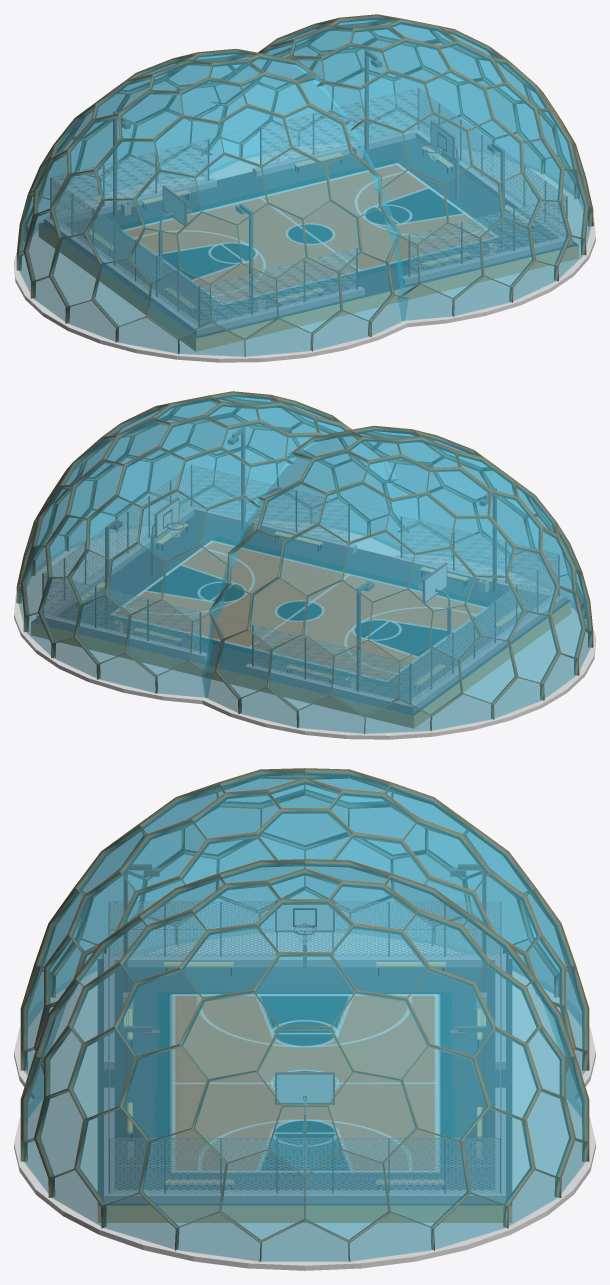
File: FitnessShell.glb
The picture shows the model from 3 angles, top to bottom: view 1: azimuth 30°, elevation 25°; view 2: azimuth 150°, elevation 25°; view 3: azimuth 270°, elevation 25°; orthographic projection. The views are drawn at different scales.
Visible parts, largest first — view 1: Dome_Panels.002, Dome_Panels.001, Base_1, Court_2, Dome_Frame.007, Dome_Frame.006, Base_Platform.002, Base_Platform.001, Light Pillars_3, Basketball_Stand_6, Benches_4, Mesh_Bars_7; view 2: Dome_Panels.002, Dome_Panels.001, Base_1, Court_2, Dome_Frame.007, Dome_Frame.006, Base_Platform.002, Base_Platform.001, Light Pillars_3, Basketball_Stand_6, Benches_4, Mesh_Bars_7; view 3: Dome_Panels.001, Base_1, Dome_Panels.002, Court_2, Dome_Frame.006, Base_Platform.001, Dome_Frame.007, Base_Platform.002, Basketball_Stand_6, Light Pillars_3, Benches_4, Mesh_Bars_7.
Part boxes in pixels (left/top/right/bottom): Dome_Panels.002: left=18, top=51, right=407, bottom=356; Dome_Panels.001: left=203, top=16, right=591, bottom=320; Base_1: left=38, top=88, right=578, bottom=351; Court_2: left=116, top=159, right=510, bottom=308; Dome_Frame.007: left=16, top=48, right=408, bottom=357; Dome_Frame.006: left=201, top=14, right=593, bottom=316; Base_Platform.002: left=14, top=173, right=435, bottom=362; Base_Platform.001: left=206, top=138, right=595, bottom=327; Light Pillars_3: left=113, top=50, right=504, bottom=313; Basketball_Stand_6: left=158, top=120, right=459, bottom=270; Benches_4: left=84, top=146, right=533, bottom=314; Mesh_Bars_7: left=51, top=88, right=566, bottom=306; Dome_Panels.002: left=202, top=428, right=591, bottom=733; Dome_Panels.001: left=18, top=393, right=406, bottom=697; Base_1: left=31, top=465, right=571, bottom=728; Court_2: left=99, top=536, right=493, bottom=685; Dome_Frame.007: left=201, top=425, right=593, bottom=734; Dome_Frame.006: left=16, top=391, right=408, bottom=693; Base_Platform.002: left=164, top=550, right=595, bottom=739; Base_Platform.001: left=14, top=515, right=403, bottom=704; Light Pillars_3: left=105, top=427, right=496, bottom=690; Basketball_Stand_6: left=150, top=497, right=451, bottom=647; Benches_4: left=76, top=523, right=525, bottom=691; Mesh_Bars_7: left=43, top=465, right=558, bottom=683; Dome_Panels.001: left=23, top=862, right=586, bottom=1261; Base_1: left=97, top=902, right=512, bottom=1222; Dome_Panels.002: left=23, top=771, right=586, bottom=1075; Court_2: left=154, top=989, right=455, bottom=1176; Dome_Frame.006: left=20, top=859, right=589, bottom=1262; Base_Platform.001: left=14, top=1057, right=595, bottom=1270; Dome_Frame.007: left=20, top=768, right=589, bottom=1073; Base_Platform.002: left=14, top=930, right=595, bottom=1137; Basketball_Stand_6: left=275, top=899, right=334, bottom=1178; Light Pillars_3: left=123, top=864, right=486, bottom=1164; Benches_4: left=124, top=962, right=485, bottom=1189; Mesh_Bars_7: left=109, top=901, right=500, bottom=1165.
Bounding box in the file's own units: 13.71 × 4.98 × 10.
Materials: 19 (1 with a texture image).
